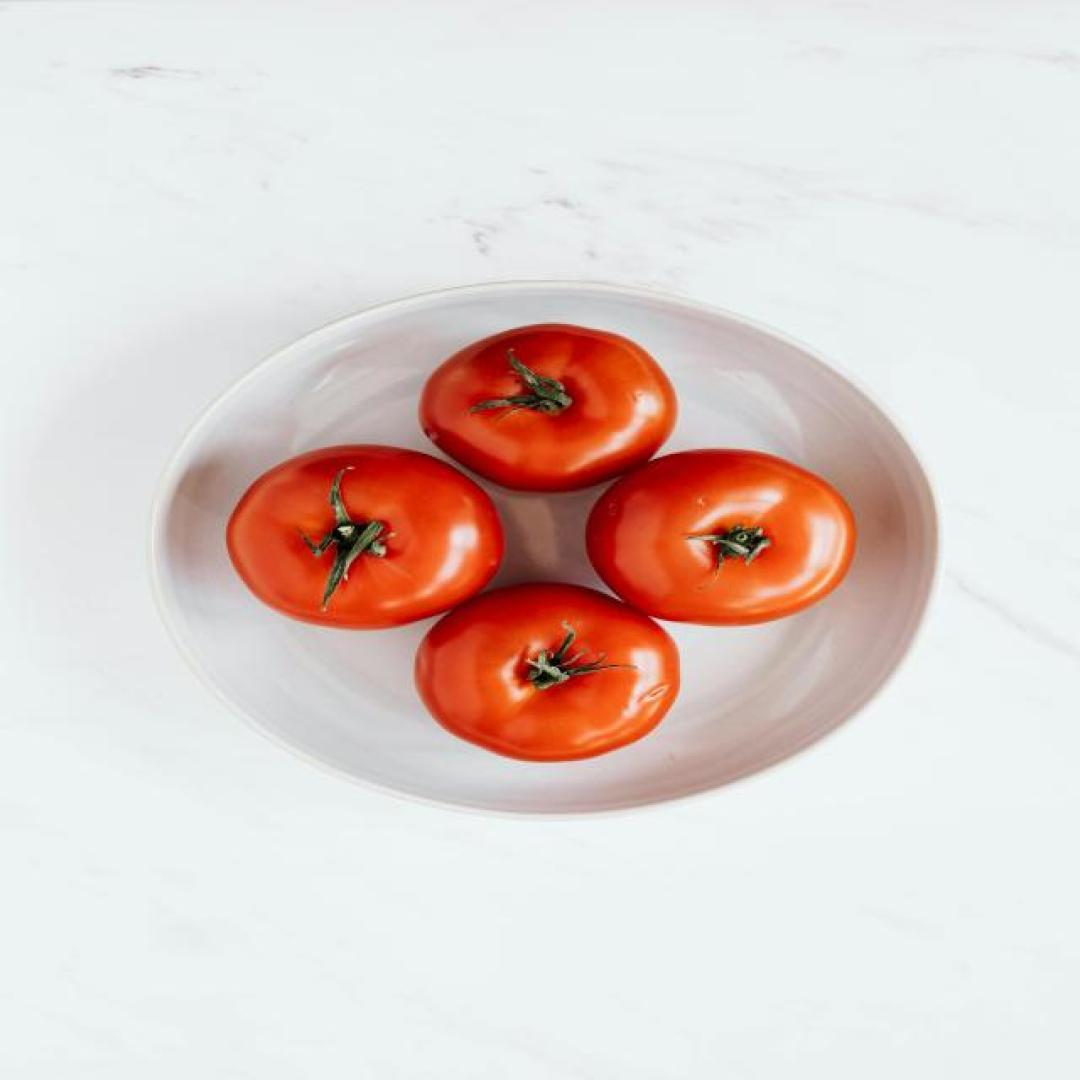matang: (224, 444, 503, 634), (410, 582, 684, 763), (582, 447, 859, 626), (415, 320, 680, 492)
